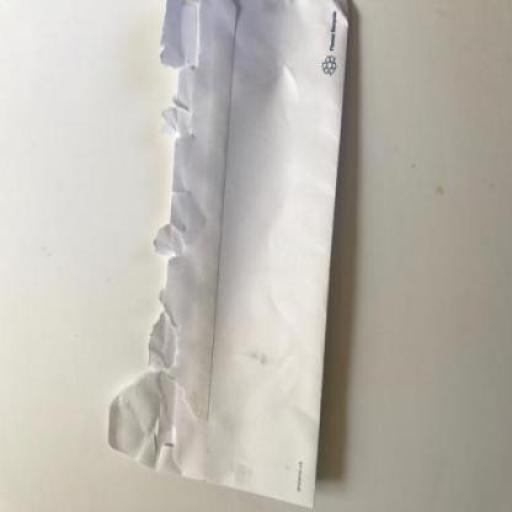paper: (107, 0, 350, 506)
